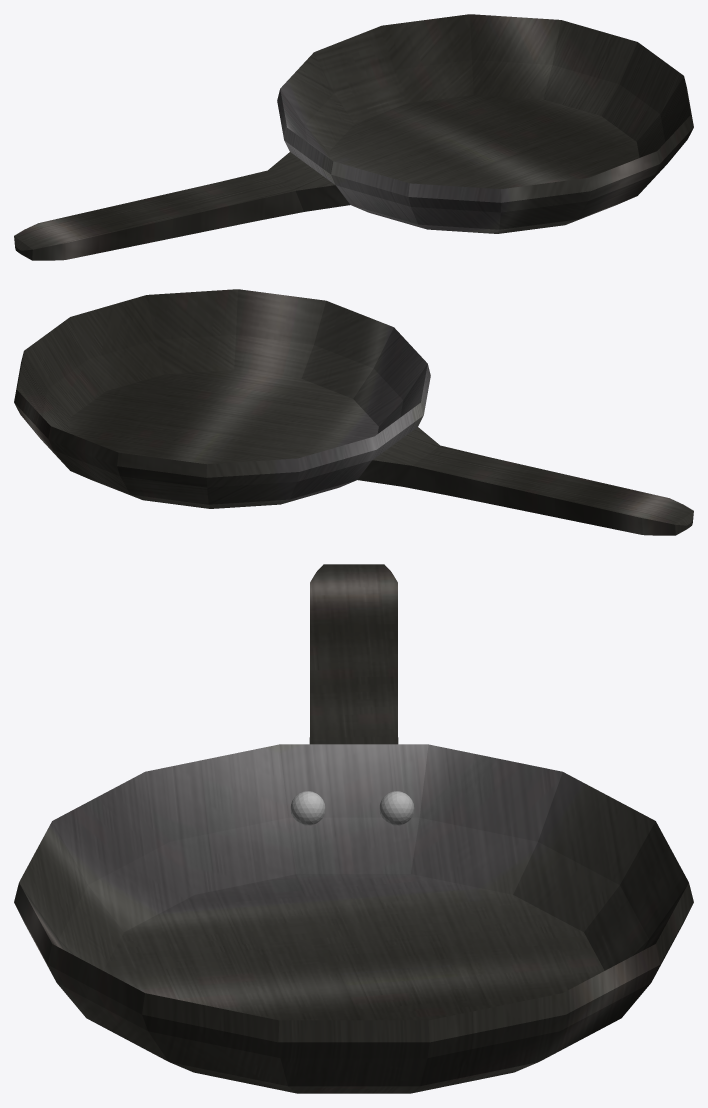
The model's file is BigPan.fbx.
The picture shows the model from 3 angles, top to bottom: view 1: azimuth 30°, elevation 25°; view 2: azimuth 150°, elevation 25°; view 3: azimuth 270°, elevation 25°; orthographic projection. The views are drawn at different scales.
Visible parts, largest first — view 1: pan.004; view 2: pan.004; view 3: pan.004.
Part boxes in pixels (<box>): pan.004: <box>14,14,693,260</box>; pan.004: <box>14,289,693,535</box>; pan.004: <box>14,564,693,1093</box>.
Bounding box in the file's own units: 1665 × 185 × 942.
